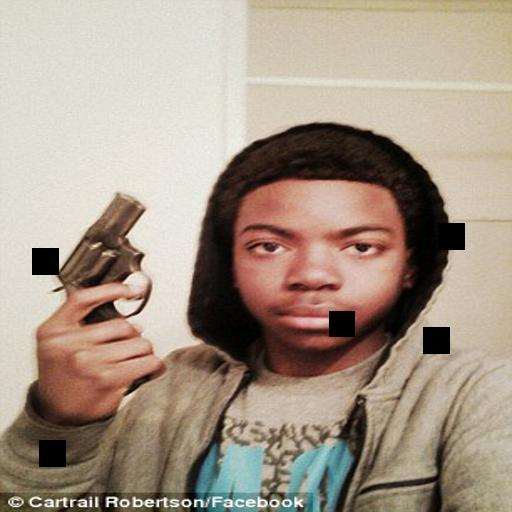Handgun: (55, 190, 157, 393)
